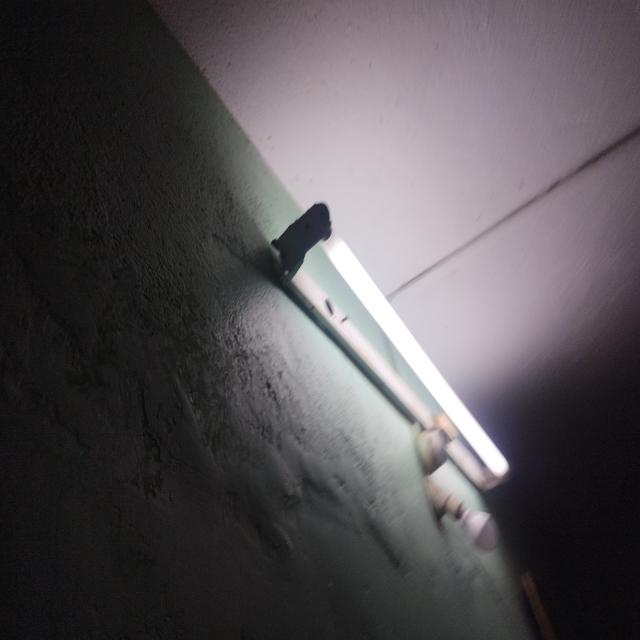tubelight_on: (261, 199, 520, 499)
